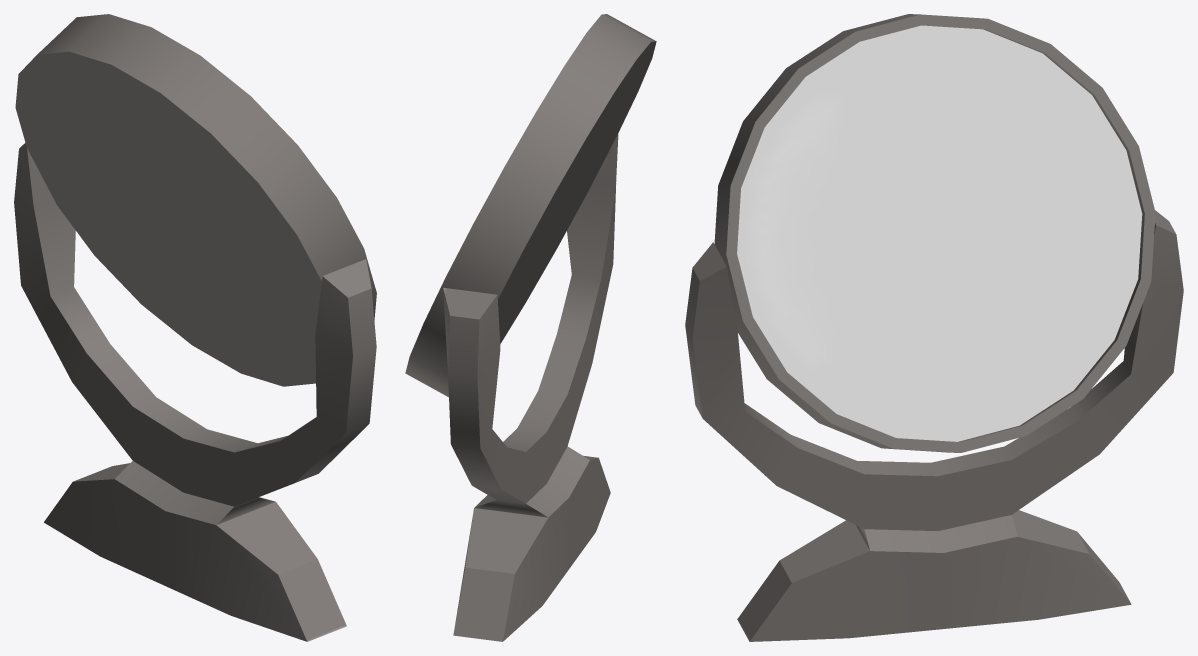
File: Mesh_PetitMiroir.fbx
3 renders of one model, left to right at view 1: azimuth 30°, elevation 25°; view 2: azimuth 150°, elevation 25°; view 3: azimuth 270°, elevation 25°, orthographic. The views are drawn at different scales.
Parts seen in each view (by area): view 1: Petit_Miroir; view 2: Petit_Miroir; view 3: Petit_Miroir.
Boxes of the visible parts, x1=… form: Petit_Miroir: x1=14, y1=14, x2=376, y2=641; Petit_Miroir: x1=405, y1=14, x2=656, y2=641; Petit_Miroir: x1=685, y1=14, x2=1183, y2=641.
Size of the model in its own units: 0.0671 by 0.1673 by 0.1321.
1 material, 1 textured.
